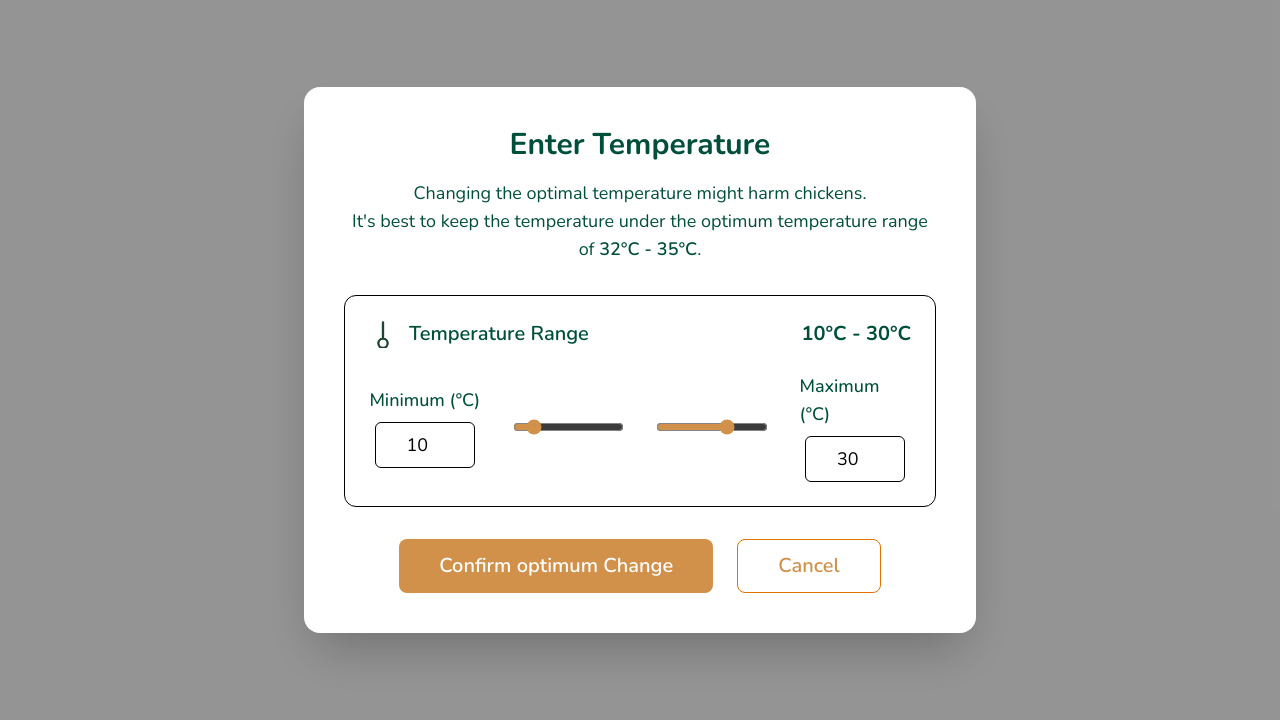
TemperatureModal › submits form successfully, shows success message, then closes modal
Click the button "Confirm optimum Change": click(556, 566) left=399, top=539, right=713, bottom=593
Wait 2000 ms
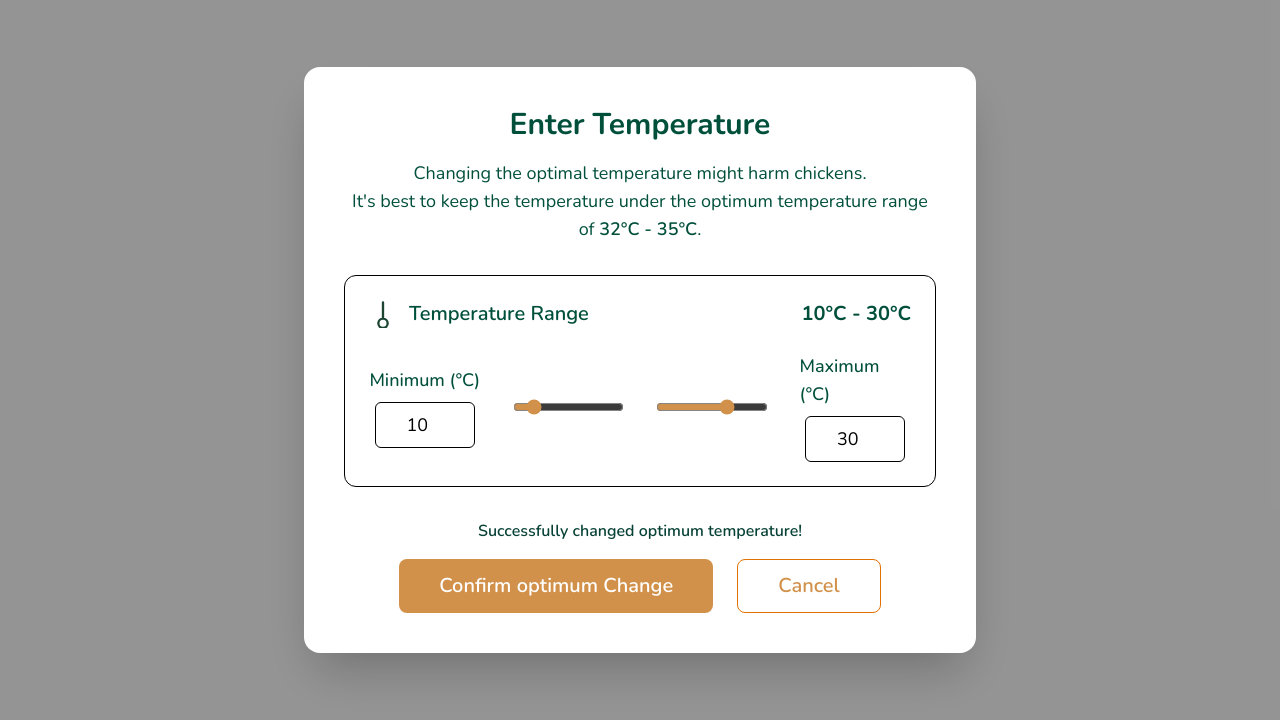
Expected: the text "Successfully changed optimum temperature!" is shown, left=478, top=520, right=802, bottom=542
